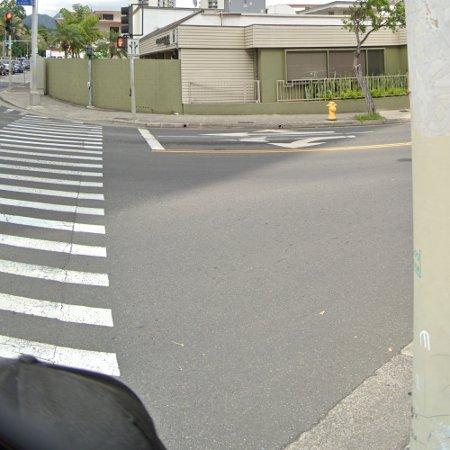crosswalks: (0, 114, 119, 376)
